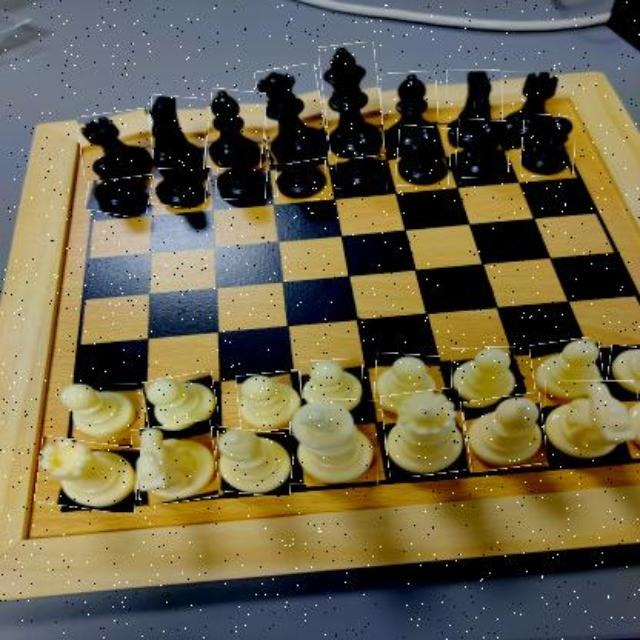black-bishop: (207, 90, 267, 170), (382, 71, 440, 152)
black-king: (322, 44, 383, 159)
black-knight: (148, 95, 208, 170), (446, 69, 501, 150)
black-pawn: (87, 152, 153, 216), (151, 148, 209, 208), (520, 114, 575, 177), (397, 125, 452, 186), (275, 137, 327, 200), (217, 142, 269, 202), (458, 119, 510, 179), (337, 133, 389, 191)
black-queen: (258, 66, 325, 164)
black-rook: (78, 110, 153, 179), (502, 72, 562, 142)
white-bishop: (465, 394, 545, 469), (215, 429, 295, 495)
white-king: (290, 400, 380, 486)
white-knight: (545, 382, 637, 462), (133, 422, 217, 503)
white-pawn: (143, 374, 218, 435), (531, 339, 603, 402), (58, 383, 138, 438), (237, 371, 303, 431), (452, 347, 518, 405), (375, 353, 441, 411), (301, 358, 363, 413), (606, 346, 638, 401)
white-queen: (382, 390, 465, 477)
white-rook: (36, 439, 139, 511)
